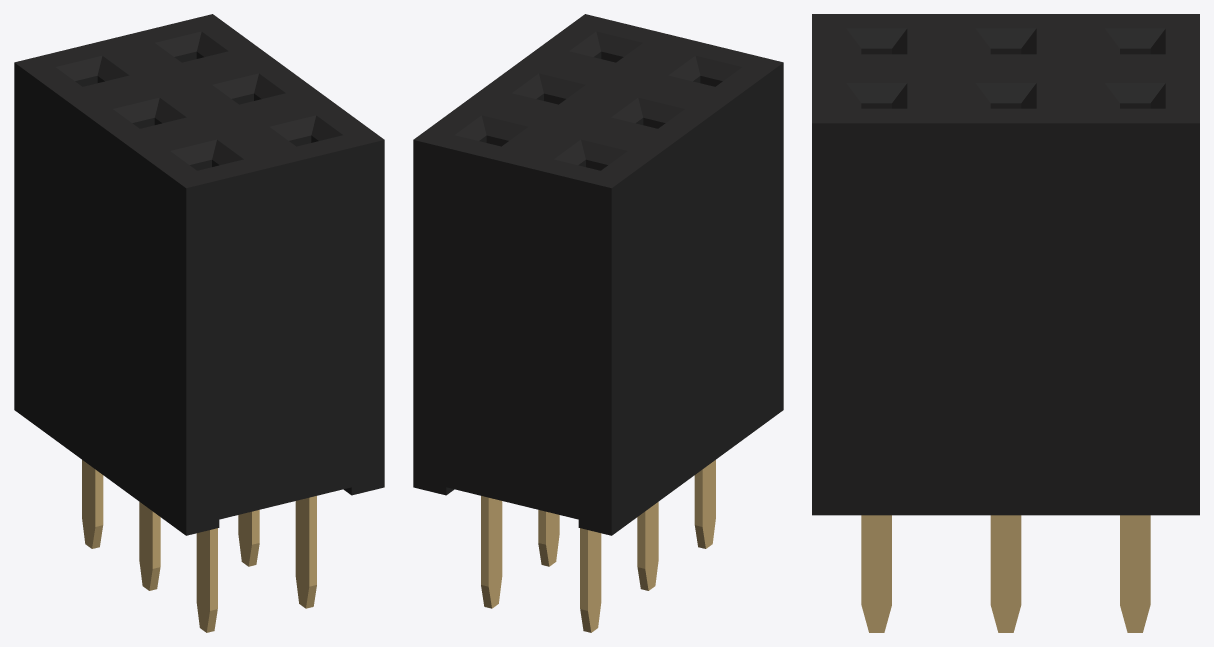
The model's file is PinSocket_2x03_P2.54mm_Vertical.glb.
The picture shows the model from 3 angles, left to right: view 1: azimuth 30°, elevation 25°; view 2: azimuth 150°, elevation 25°; view 3: azimuth 270°, elevation 25°; orthographic projection. The views are drawn at different scales.
Visible parts, largest first — view 1: =>[0:1:1:3]; view 2: =>[0:1:1:3]; view 3: =>[0:1:1:3].
Boxes of the visible parts, box(x1,y1,x2,y2) form: =>[0:1:1:3]: box(14, 14, 384, 632); =>[0:1:1:3]: box(413, 14, 783, 632); =>[0:1:1:3]: box(812, 14, 1199, 632).
Bounding box in the file's own units: 0.00508 × 0.0116 × 0.00762.
